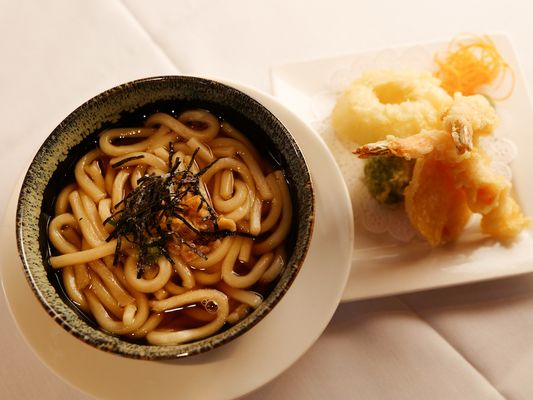sushi: (15, 76, 328, 394)
